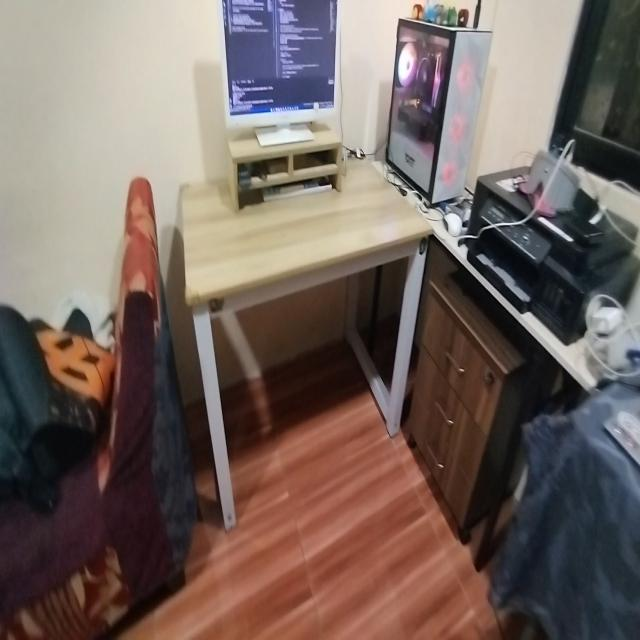table: (175, 150, 432, 497)
